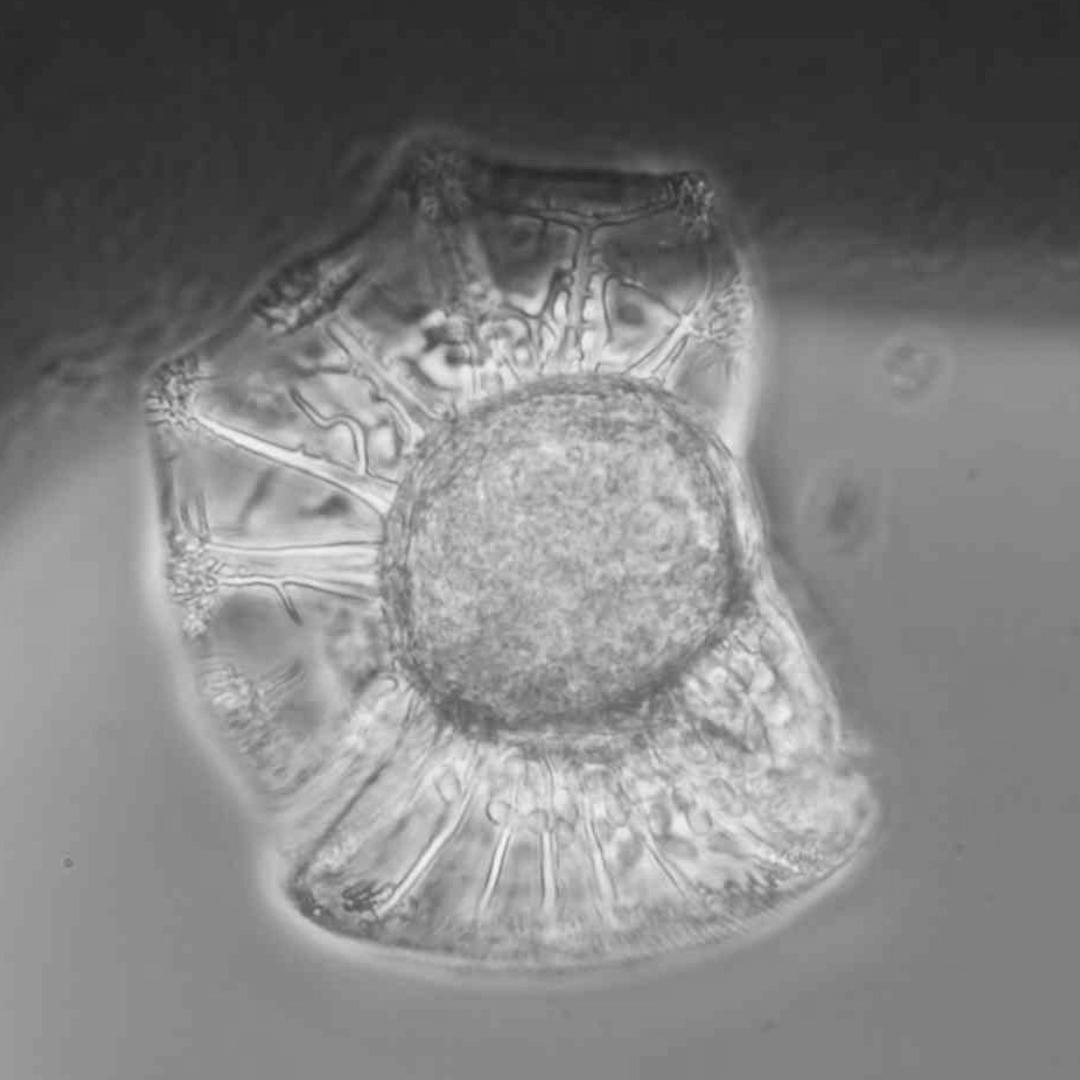ornithocercus_thumii: (139, 133, 883, 968)
